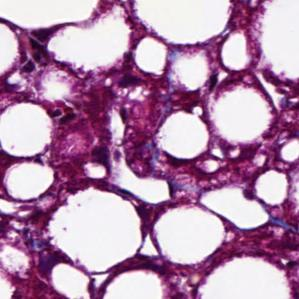inflammation: (20, 32, 55, 84), (116, 50, 142, 92)
